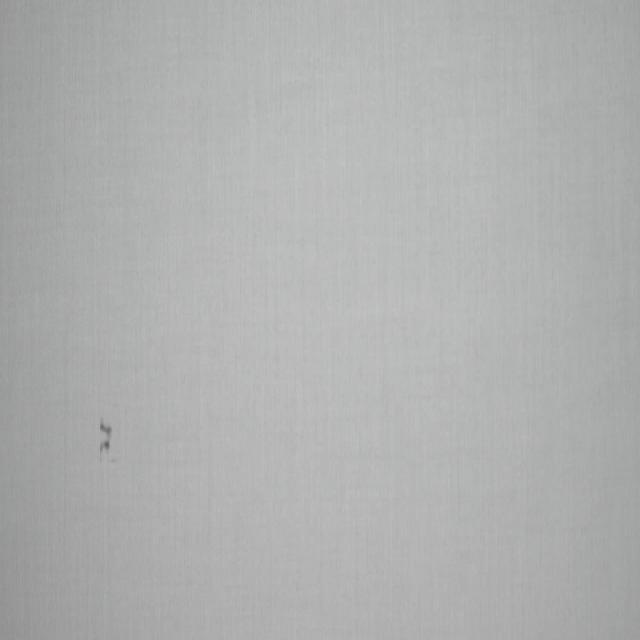dirty: (99, 422, 110, 448)
